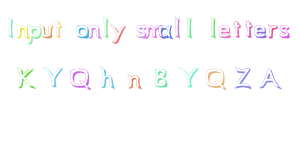8: (151, 65, 172, 91)
A: (259, 63, 285, 93)
I: (4, 14, 19, 42)
K: (17, 58, 37, 91)
Q: (69, 63, 92, 92), (204, 66, 229, 92)
Y: (40, 57, 64, 91), (177, 62, 199, 87)
Z: (232, 64, 255, 93)
a: (160, 20, 173, 41)
e: (217, 20, 233, 44), (254, 22, 267, 43)
h: (98, 64, 116, 91)
l: (184, 15, 196, 40), (206, 15, 218, 40), (101, 13, 111, 38), (173, 16, 183, 40)
m: (145, 23, 162, 44)
n: (126, 71, 145, 92), (87, 18, 102, 42), (14, 19, 29, 40)
o: (73, 22, 88, 42)
p: (27, 18, 43, 48)
s: (135, 17, 146, 45), (278, 21, 293, 39)
t: (232, 18, 243, 40), (267, 20, 278, 41), (54, 17, 65, 37), (244, 17, 253, 40)
u: (40, 18, 54, 40)
y: (111, 21, 127, 49)
